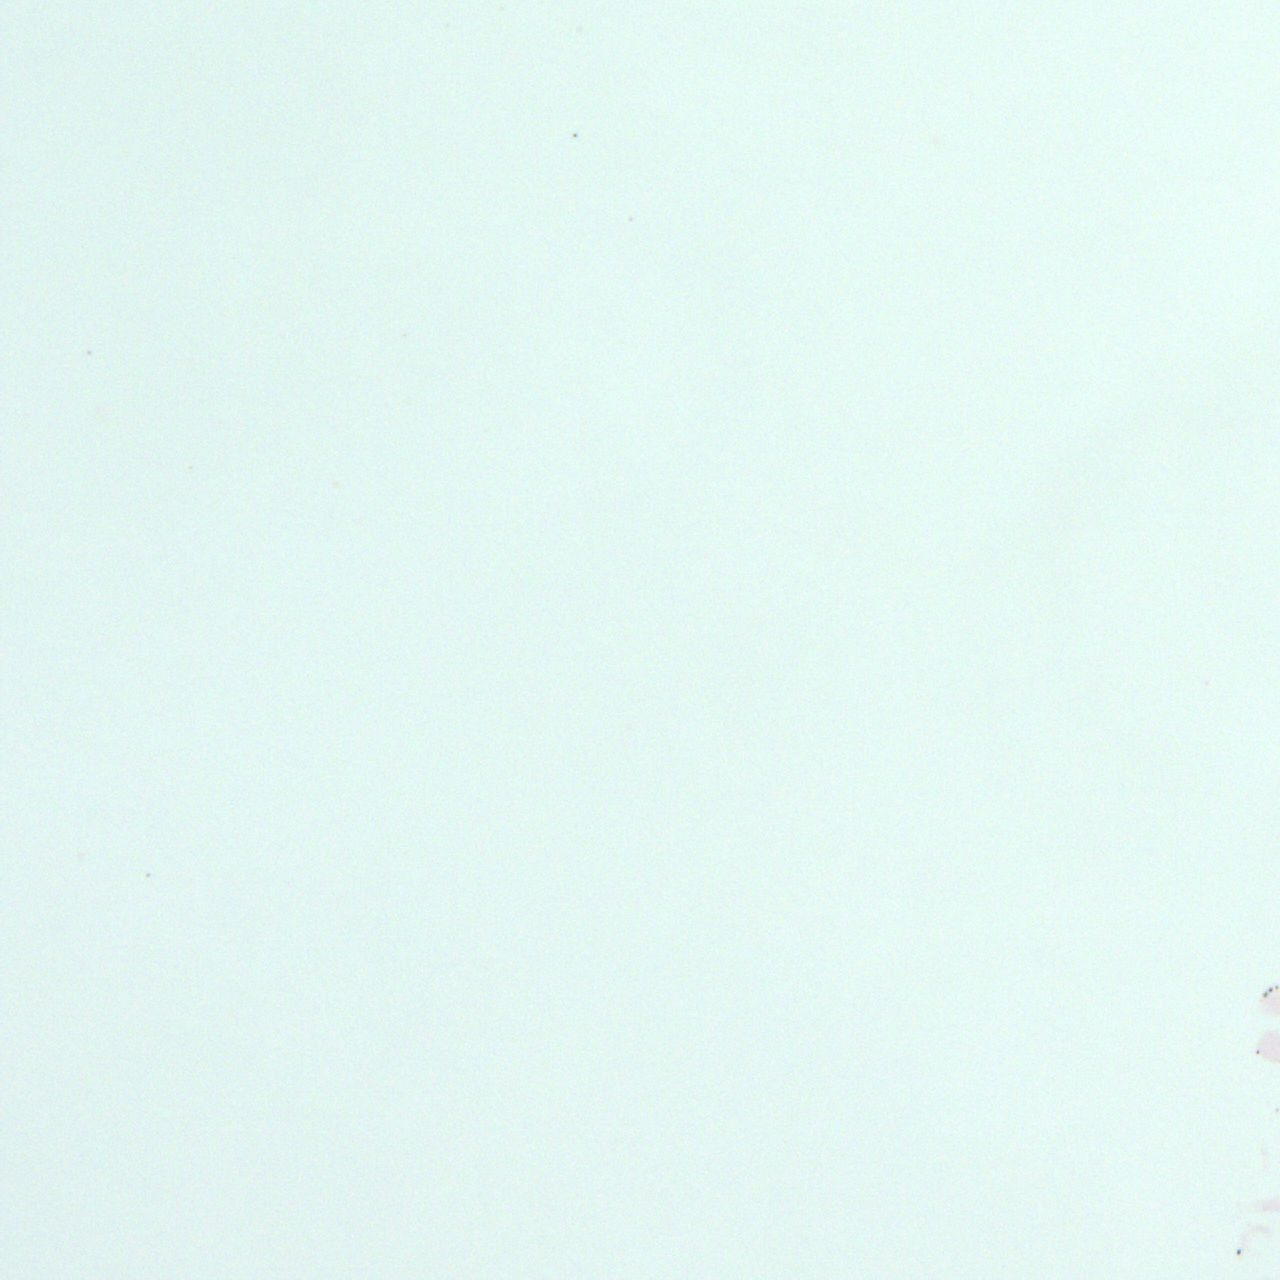dust: (1234, 1250, 1241, 1257), (1255, 1048, 1261, 1055), (1262, 992, 1268, 998), (571, 132, 578, 137), (1267, 986, 1272, 990), (1275, 983, 1279, 989)
